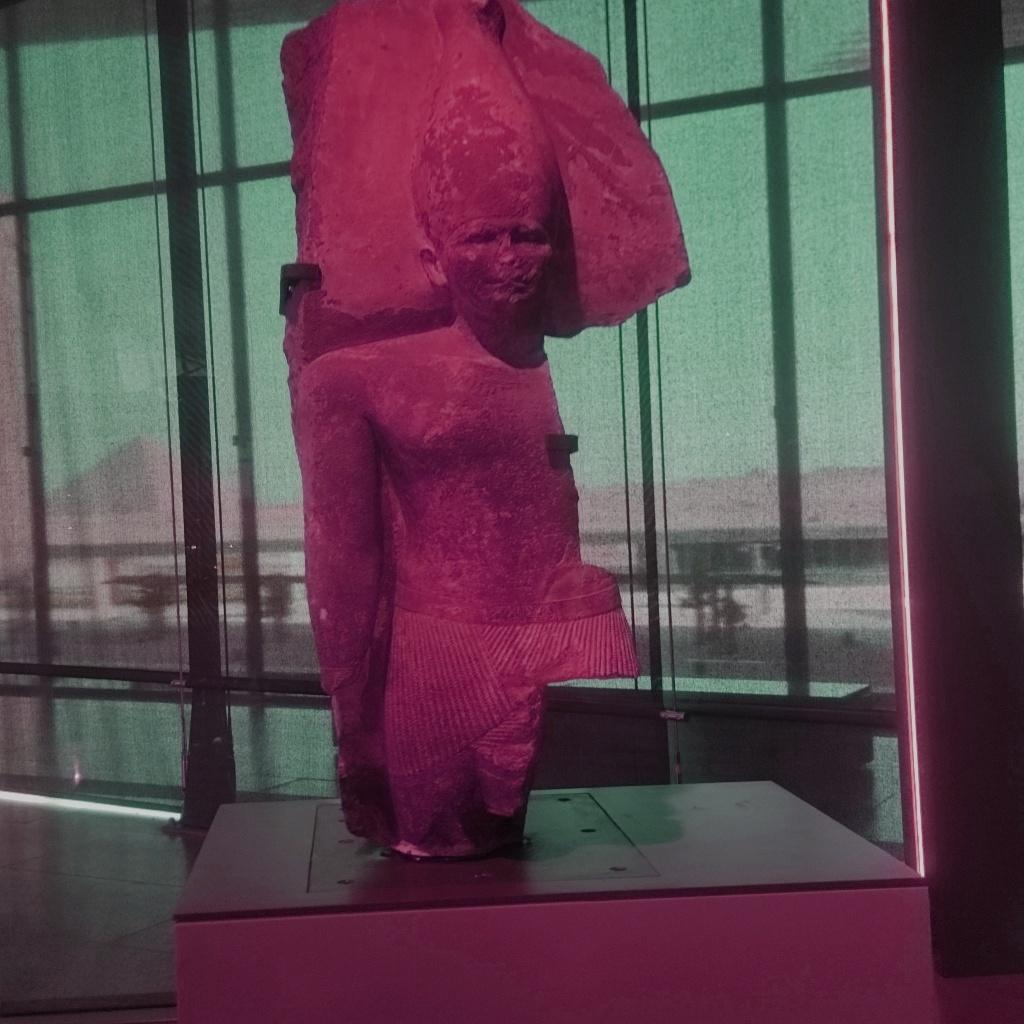Statue of Snefru: (292, 2, 696, 862)
